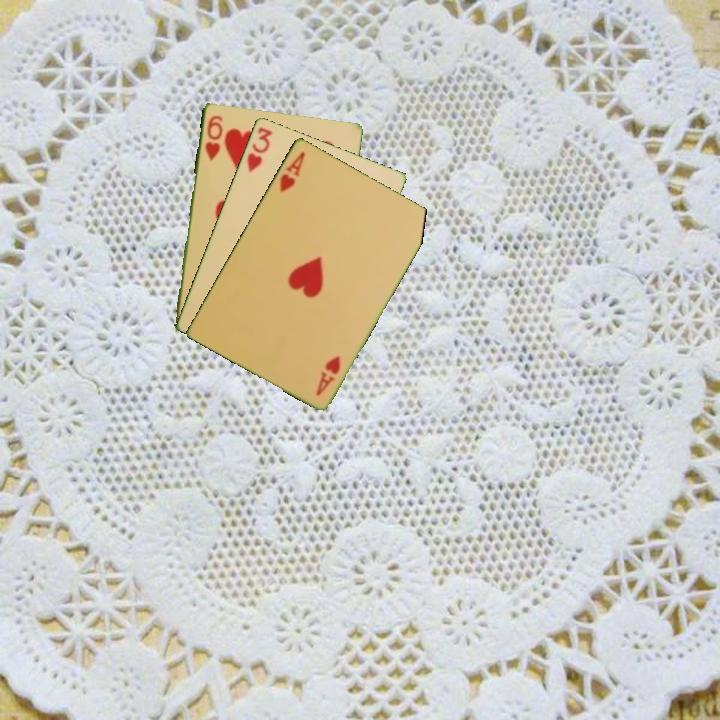3h: (243, 123, 275, 175)
6h: (201, 112, 225, 163)
Ah: (276, 147, 308, 195), (312, 352, 343, 398)
